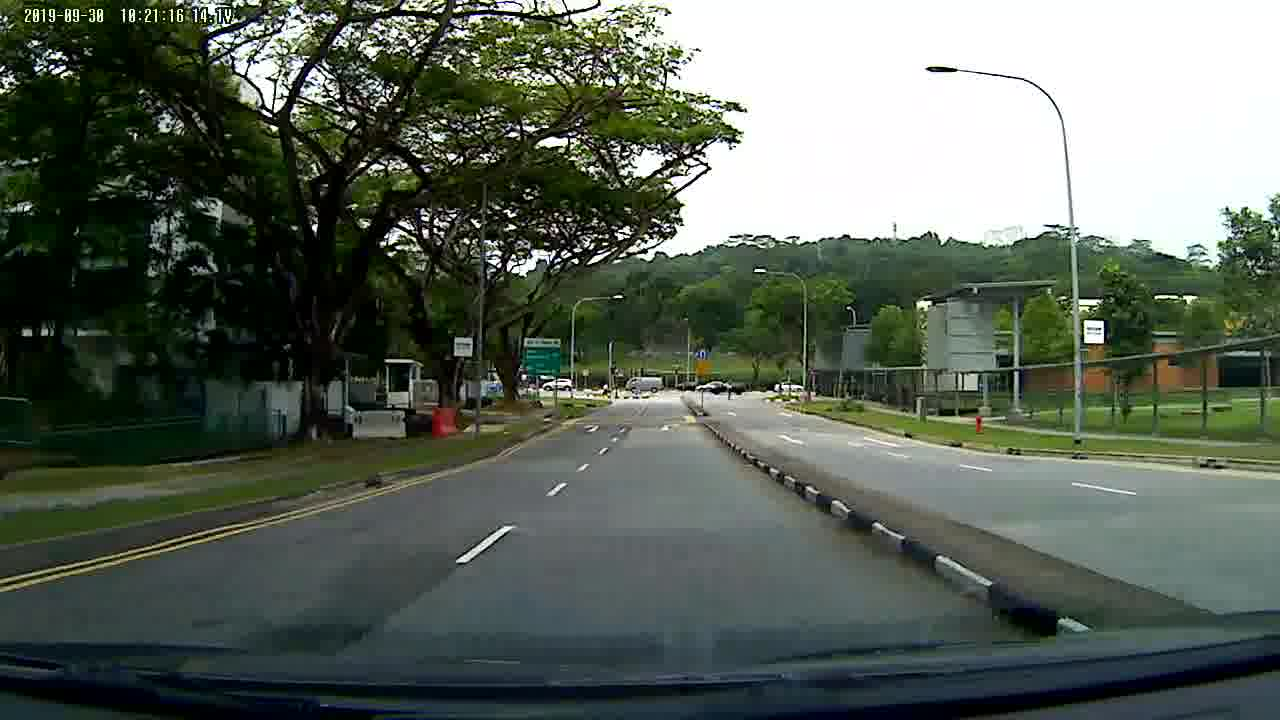car: (544, 377, 573, 394)
